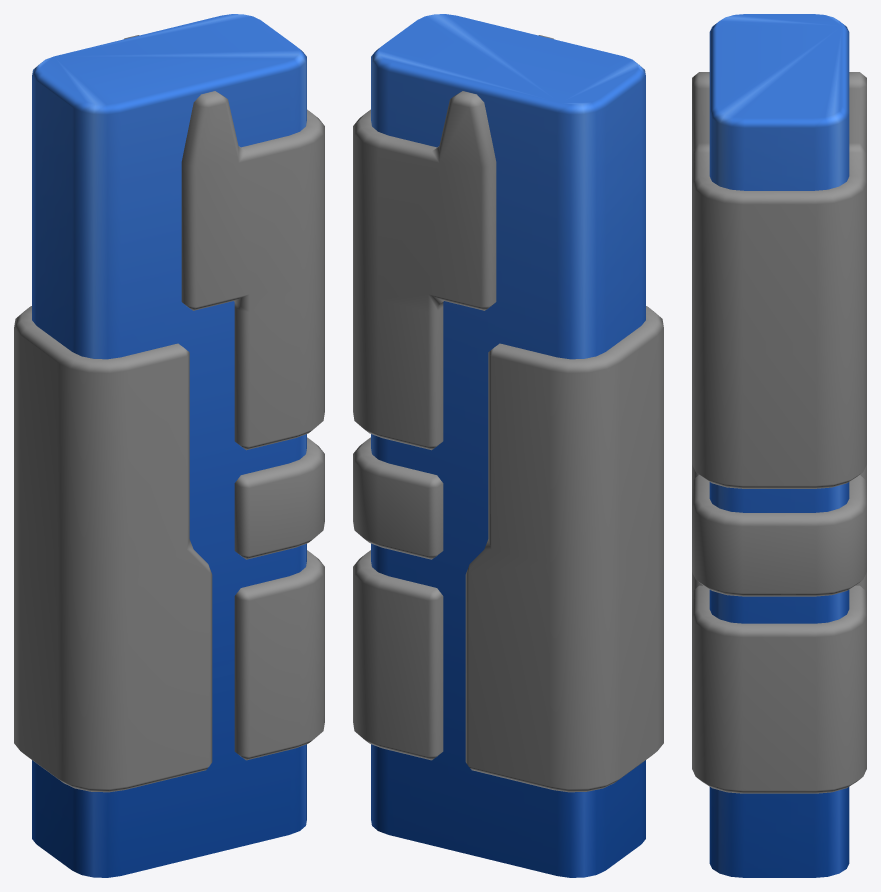
File: pillar_004.fbx
3 views of the same model, side by side, from view 1: azimuth 30°, elevation 25°; view 2: azimuth 150°, elevation 25°; view 3: azimuth 270°, elevation 25° (orthographic).
Parts seen in each view (by area): view 1: pillar_004; view 2: pillar_004; view 3: pillar_004.
Part boxes in pixels (box(x1,y1,x2,y2)): pillar_004: box(14, 14, 324, 877); pillar_004: box(353, 14, 663, 877); pillar_004: box(692, 14, 866, 877).
Bounding box in the file's own units: 423 × 250 × 1193.
